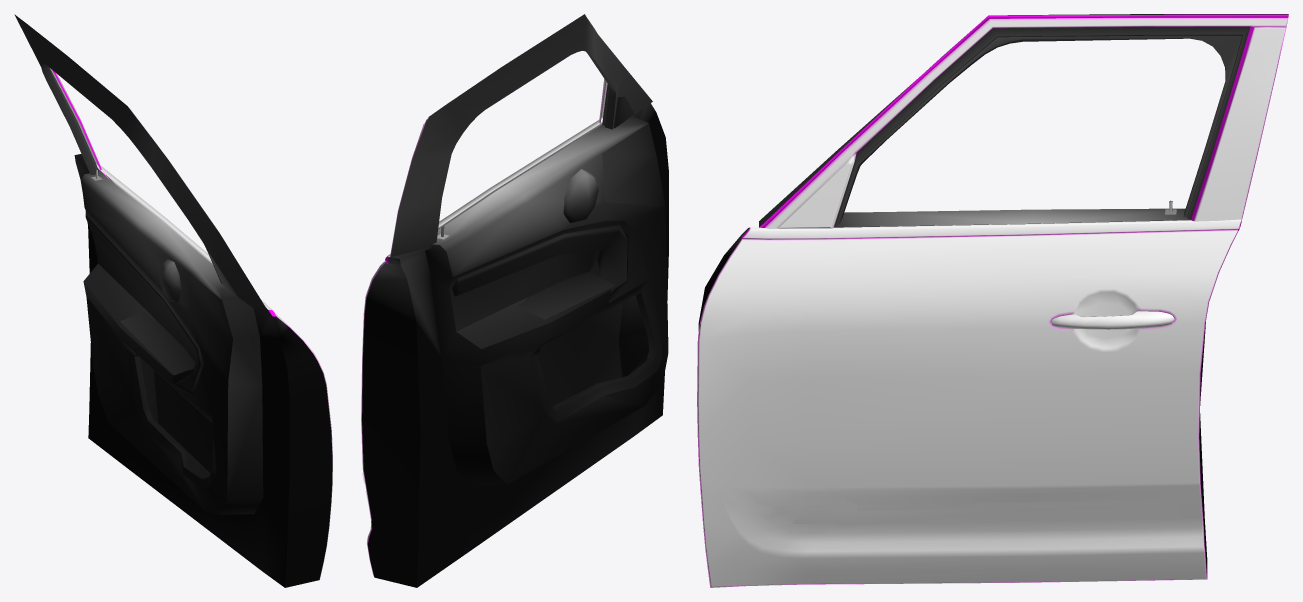
The model's file is Car_Mini_CountrymanJCW_2017_DoorL_SetA.fbx.
The picture shows the model from 3 angles, left to right: view 1: azimuth 30°, elevation 25°; view 2: azimuth 150°, elevation 25°; view 3: azimuth 270°, elevation 25°; orthographic projection. The views are drawn at different scales.
Parts seen in each view (by area): view 1: DoorL 6; view 2: DoorL 6; view 3: DoorL 6.
Part boxes in pixels (left/top/right/bottom): DoorL 6: left=14, top=14, right=332, bottom=587; DoorL 6: left=361, top=14, right=668, bottom=587; DoorL 6: left=697, top=14, right=1288, bottom=587.
Size of the model in its own units: 0.307 by 1.16 by 1.19.
